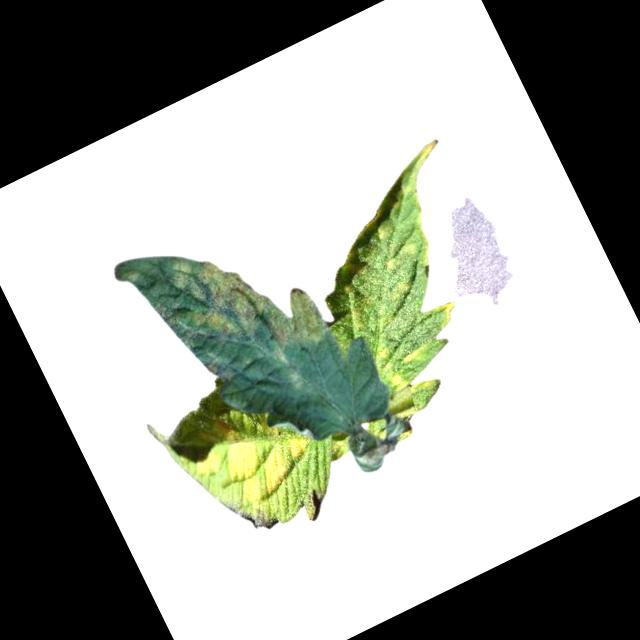Leaf_Mold: (290, 137, 549, 441), (110, 194, 333, 413), (165, 381, 323, 524)
